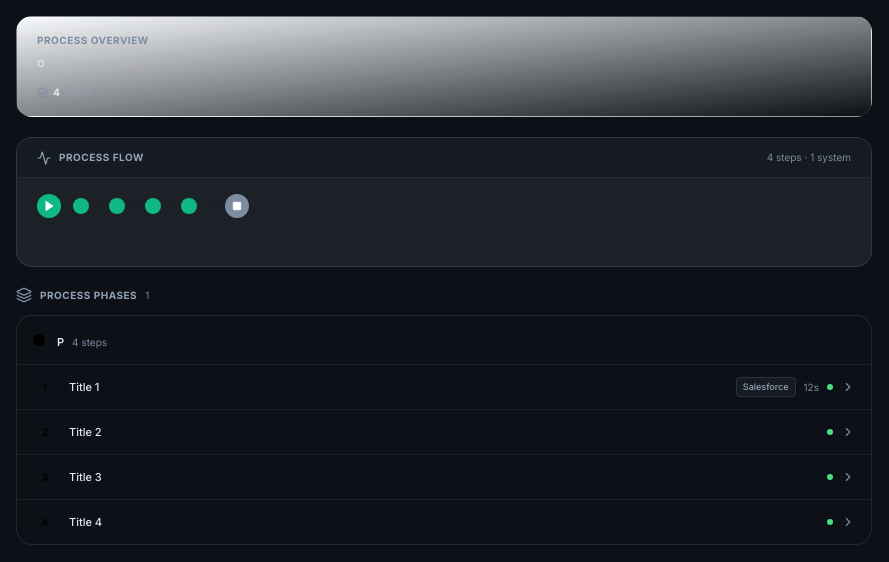
SOPVisualMode flow strip (row #231) › hover shows the detail and it persists when the pointer moves onto it
Hover over the button named "Step 3: Short 3" at coordinates (153, 206), box [141,194,165,218]
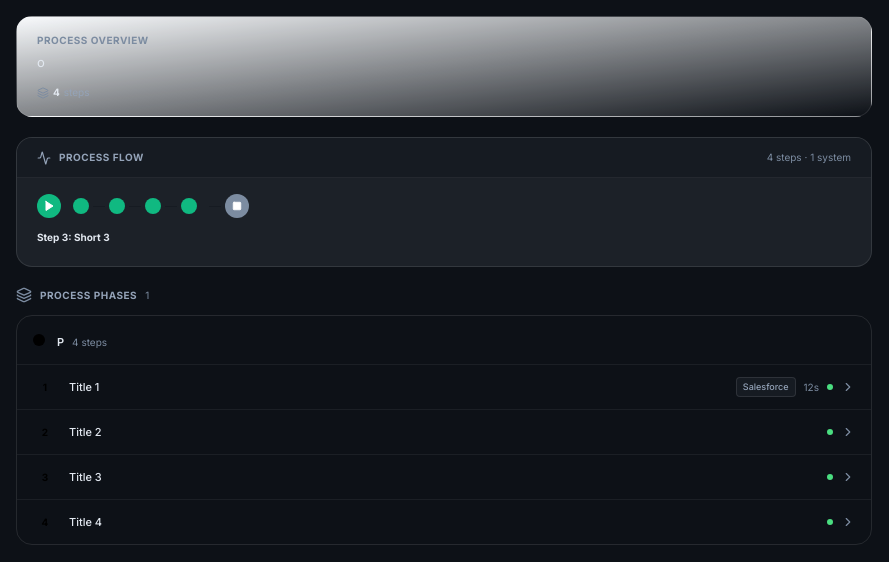
Expected: the tooltip shows "Step 3", [37,231,110,243]
Move the pointer off the element showing "Step 3: Short 3", box [37,194,249,243]
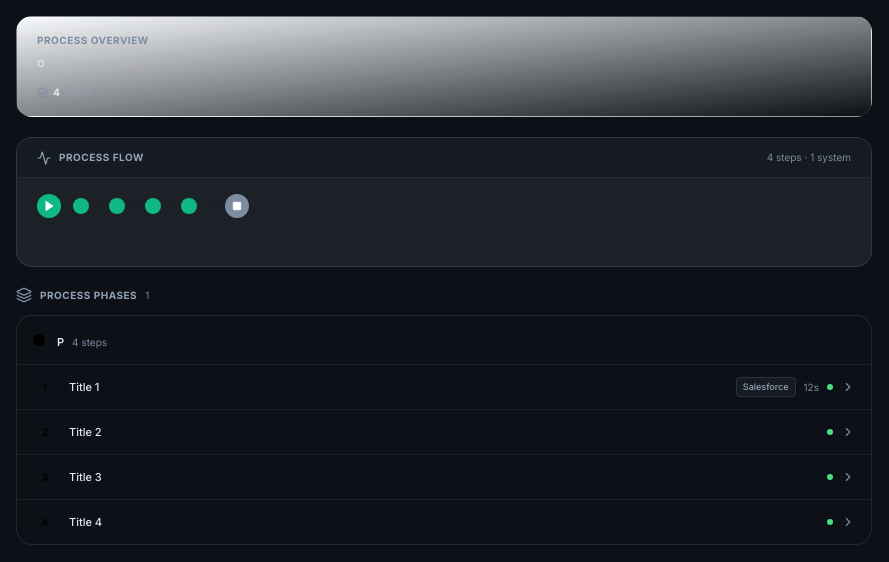
Expected: the tooltip "Step 3: Short 3" is gone
